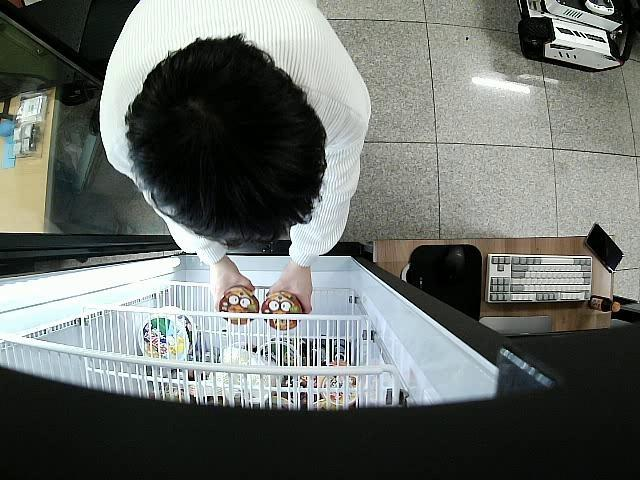06_nuguri_S: (262, 290, 304, 332), (217, 286, 260, 326)
